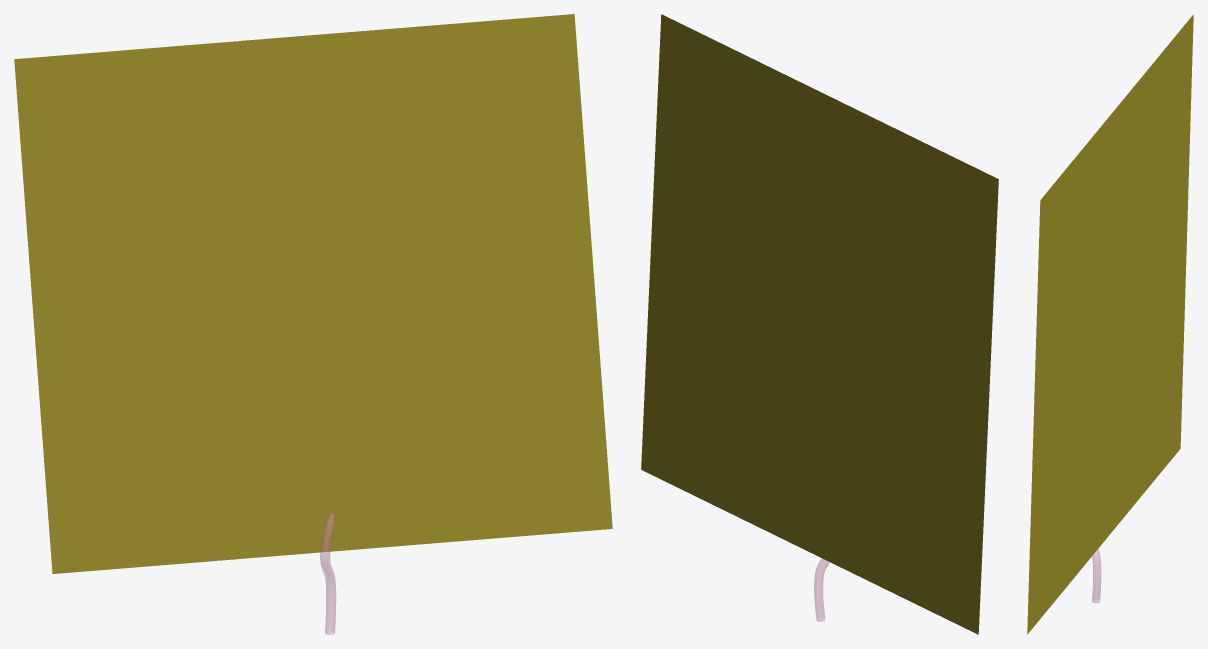
File: frame_large.glb
The picture shows the model from 3 angles, left to right: view 1: azimuth 30°, elevation 25°; view 2: azimuth 150°, elevation 25°; view 3: azimuth 270°, elevation 25°; orthographic projection. The views are drawn at different scales.
Visible parts, largest first — view 1: decorative_set_vol005_hamid_shk54.001; view 2: decorative_set_vol005_hamid_shk54.001; view 3: decorative_set_vol005_hamid_shk54.001.
Boxes of the visible parts, x1,y1,x2,y2 form: decorative_set_vol005_hamid_shk54.001: (14,14,612,634); decorative_set_vol005_hamid_shk54.001: (641,14,998,634); decorative_set_vol005_hamid_shk54.001: (1027,14,1193,634).
Bounding box in the file's own units: 0.7356 × 0.8397 × 0.2609.
